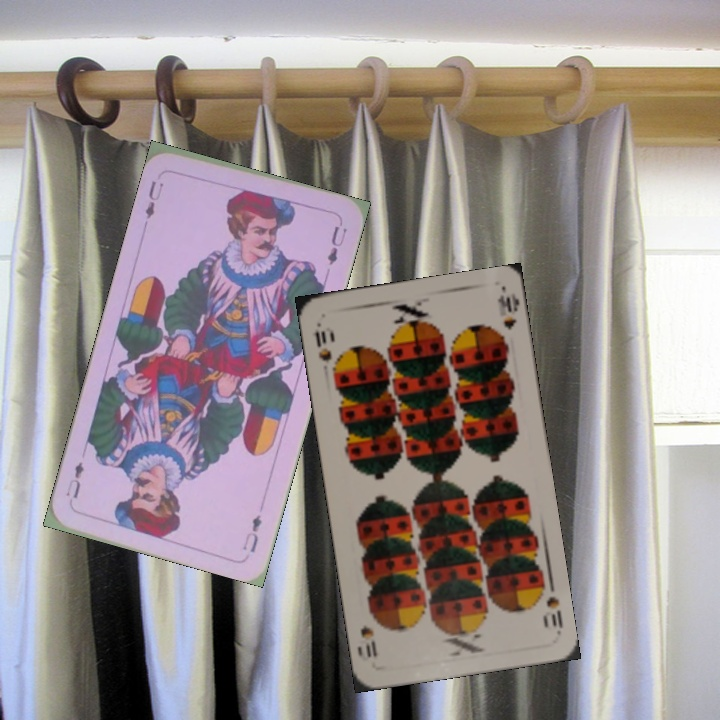EU: (140, 177, 166, 226), (238, 510, 264, 555)
S10: (534, 576, 566, 635), (311, 326, 334, 364)
